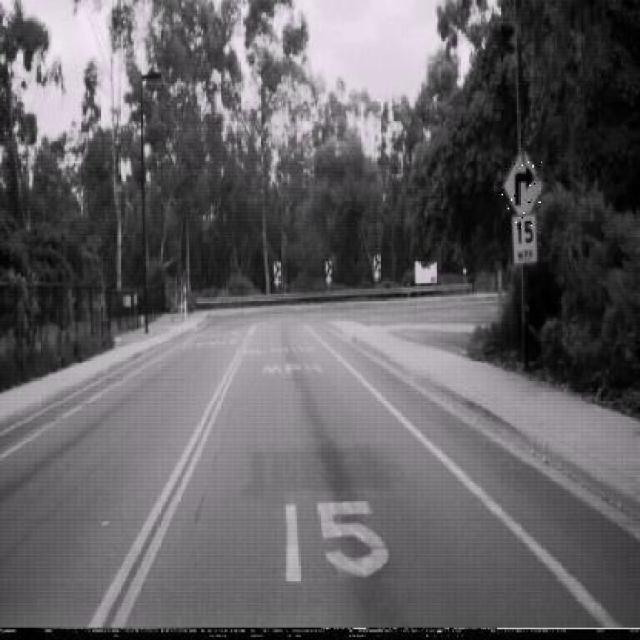turnRight: (501, 147, 544, 230)
